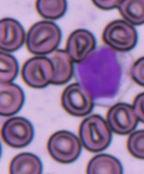L: (76, 45, 136, 102)
